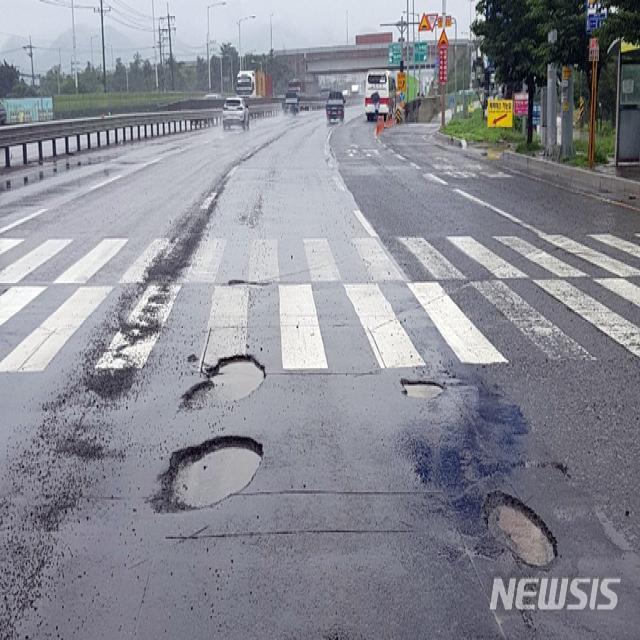pothole: (146, 424, 278, 528), (468, 472, 573, 582), (169, 337, 277, 418), (392, 368, 452, 408)
